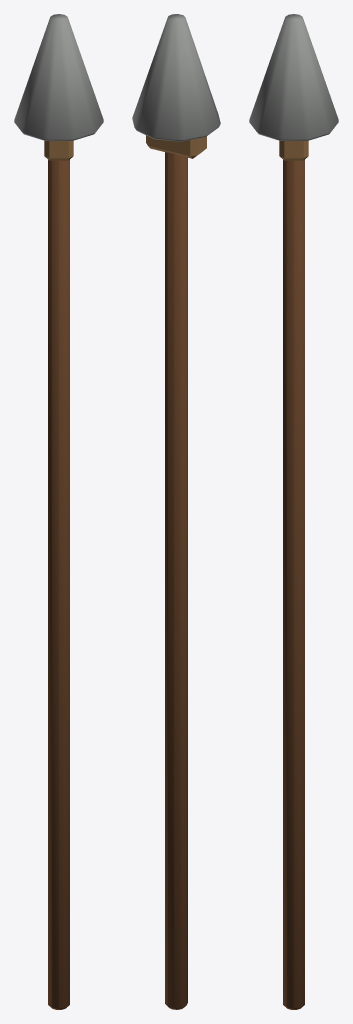
File: weapon_spear.glb
3 renders of one model, left to right at view 1: azimuth 90°, elevation 25°; view 2: azimuth 150°, elevation 25°; view 3: azimuth 270°, elevation 25°, orthographic.
Visible parts, largest first — view 1: WEAPON_SPEAR__shaft, WEAPON_SPEAR__head, WEAPON_SPEAR__socket; view 2: WEAPON_SPEAR__shaft, WEAPON_SPEAR__head, WEAPON_SPEAR__socket; view 3: WEAPON_SPEAR__shaft, WEAPON_SPEAR__head, WEAPON_SPEAR__socket.
Part boxes in pixels (x1,y1,x2,y2): WEAPON_SPEAR__shaft: (48,160,69,1009); WEAPON_SPEAR__head: (14,14,103,140); WEAPON_SPEAR__socket: (44,141,73,160); WEAPON_SPEAR__shaft: (165,152,187,1009); WEAPON_SPEAR__head: (132,14,220,141); WEAPON_SPEAR__socket: (146,135,206,158); WEAPON_SPEAR__shaft: (283,160,304,1009); WEAPON_SPEAR__head: (249,14,338,140); WEAPON_SPEAR__socket: (279,141,308,160).
Bounding box in the file's own units: 0.1772 × 2.23 × 0.1826.
